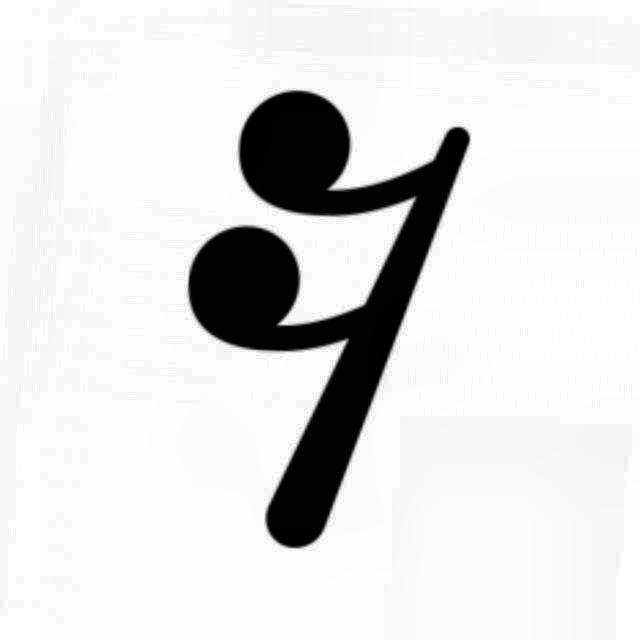Eighth-rest: (157, 76, 508, 564)
